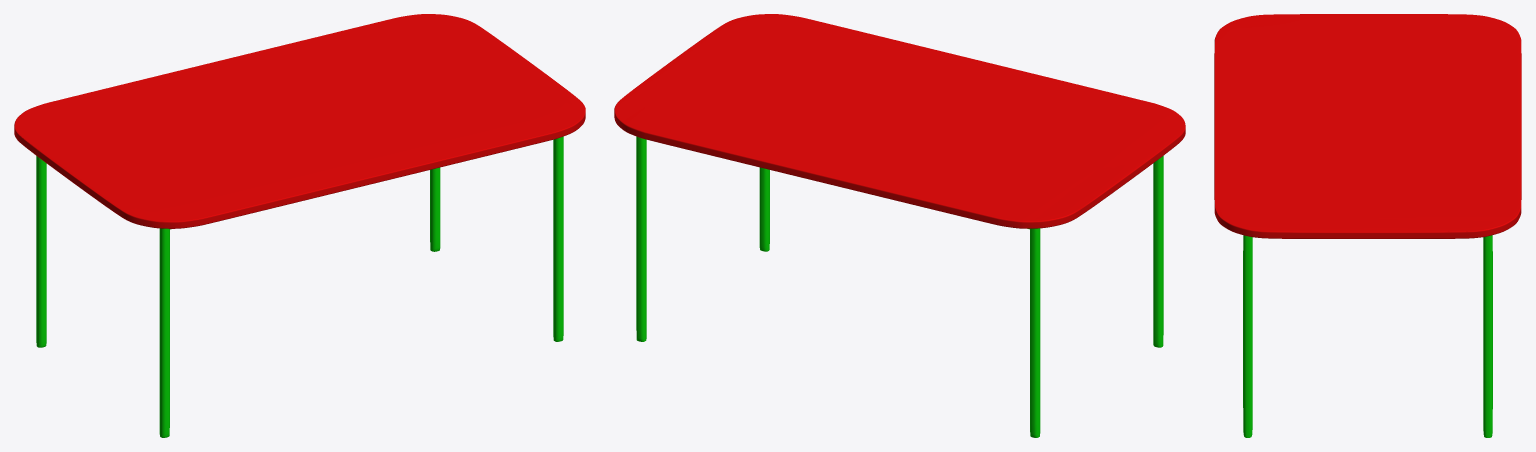
File: 1-3_Table_HP_ID.fbx
3 renders of one model, left to right at view 1: azimuth 30°, elevation 25°; view 2: azimuth 150°, elevation 25°; view 3: azimuth 270°, elevation 25°, orthographic. The views are drawn at different scales.
Visible parts, largest first — view 1: Plaque, Pied, Pied1, Pied3, Pied2; view 2: Plaque, Pied3, Pied2, Pied, Pied1; view 3: Plaque, Pied2, Pied1.
Boxes of the visible parts, x1,y1,x2,y2 form: Plaque: [14, 14, 585, 228]; Pied: [159, 228, 169, 437]; Pied1: [553, 136, 563, 341]; Pied3: [36, 156, 46, 347]; Pied2: [430, 167, 440, 251]; Plaque: [614, 14, 1185, 228]; Pied3: [1030, 228, 1040, 437]; Pied2: [636, 136, 646, 341]; Pied: [1153, 156, 1163, 347]; Pied1: [759, 167, 769, 251]; Plaque: [1214, 14, 1521, 238]; Pied2: [1483, 235, 1492, 437]; Pied1: [1243, 235, 1252, 437].
Size of the model in its own units: 160 by 74.94 by 94.99.
